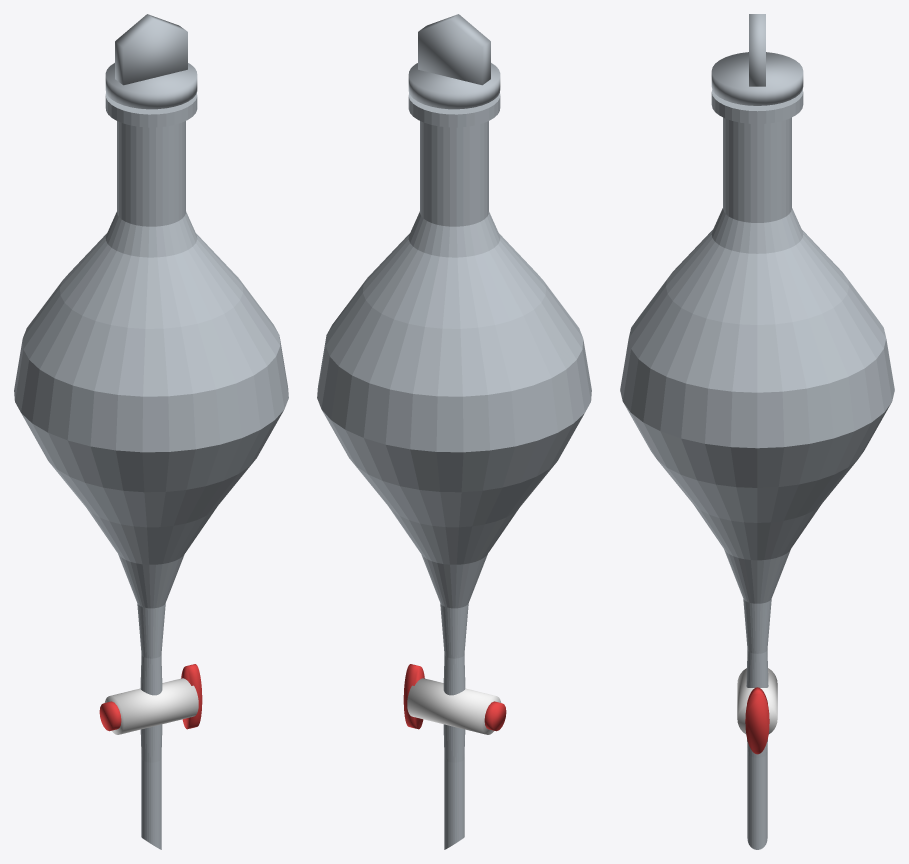
The model's file is matraz decantacion.glb.
The picture shows the model from 3 angles, left to right: view 1: azimuth 30°, elevation 25°; view 2: azimuth 150°, elevation 25°; view 3: azimuth 270°, elevation 25°; orthographic projection.
Parts seen in each view (by area): view 1: Cuerpo_Cristal, Tapon_Agarre, Valvula_Teflon, Tapon_Sombrero, Manija_Roja, Tuerca_Roja; view 2: Cuerpo_Cristal, Tapon_Agarre, Valvula_Teflon, Tapon_Sombrero, Manija_Roja, Tuerca_Roja; view 3: Cuerpo_Cristal, Tapon_Sombrero, Manija_Roja, Tapon_Agarre, Valvula_Teflon.
Boxes of the visible parts, bbox=[...] form: Cuerpo_Cristal: bbox=[14, 92, 288, 849]; Tapon_Agarre: bbox=[115, 14, 187, 85]; Valvula_Teflon: bbox=[104, 678, 198, 734]; Tapon_Sombrero: bbox=[105, 63, 197, 109]; Manija_Roja: bbox=[181, 664, 202, 729]; Tuerca_Roja: bbox=[99, 701, 121, 731]; Cuerpo_Cristal: bbox=[317, 92, 591, 849]; Tapon_Agarre: bbox=[418, 14, 490, 85]; Valvula_Teflon: bbox=[407, 678, 501, 734]; Tapon_Sombrero: bbox=[408, 63, 500, 109]; Manija_Roja: bbox=[403, 664, 424, 729]; Tuerca_Roja: bbox=[484, 701, 506, 731]; Cuerpo_Cristal: bbox=[620, 90, 894, 849]; Tapon_Sombrero: bbox=[711, 52, 803, 105]; Manija_Roja: bbox=[745, 687, 769, 754]; Tapon_Agarre: bbox=[749, 14, 765, 86]; Valvula_Teflon: bbox=[737, 668, 777, 734].
Bounding box in the file's own units: 0.96 × 3.21 × 0.96.
